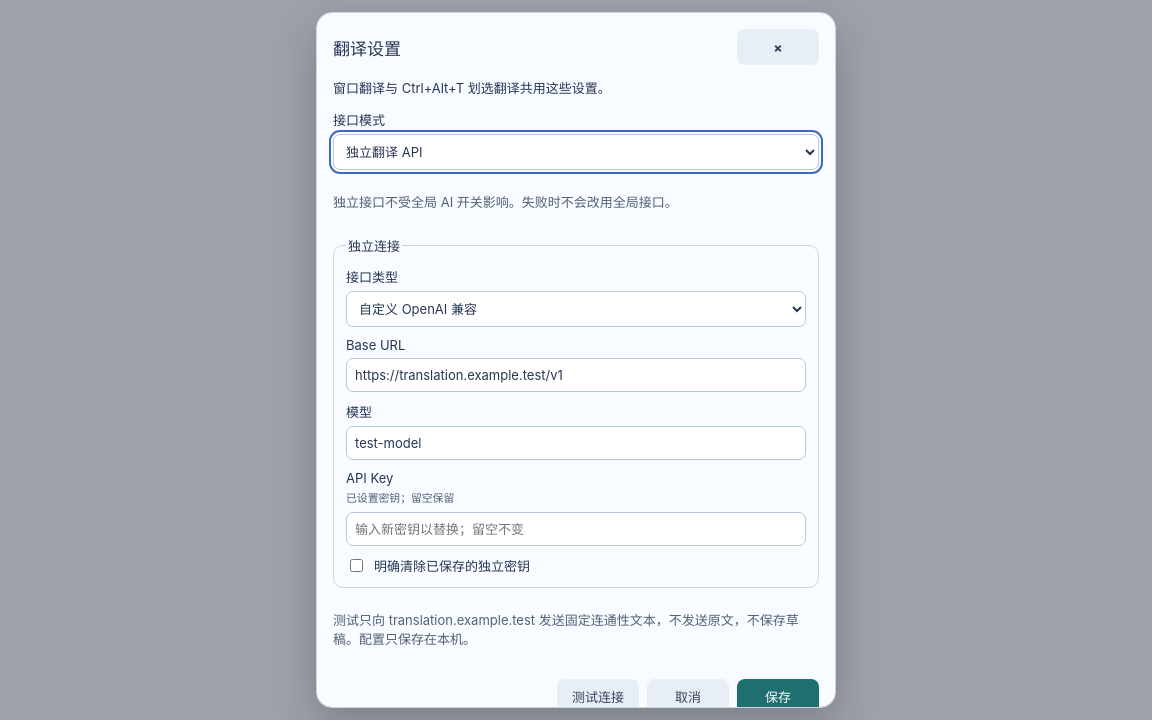
TranslatorApiSettings › tests the keep draft without saving or exposing the stored key
Check: the password field labelled "API Key 已设置密钥；留空保留" is empty, box x1=346 y1=512 x2=806 y2=546
What coordinates should you click on to do the following:
click the button "测试连接"
I would click on:
 (598, 697)
Its box is x1=557 y1=679 x2=639 y2=715.
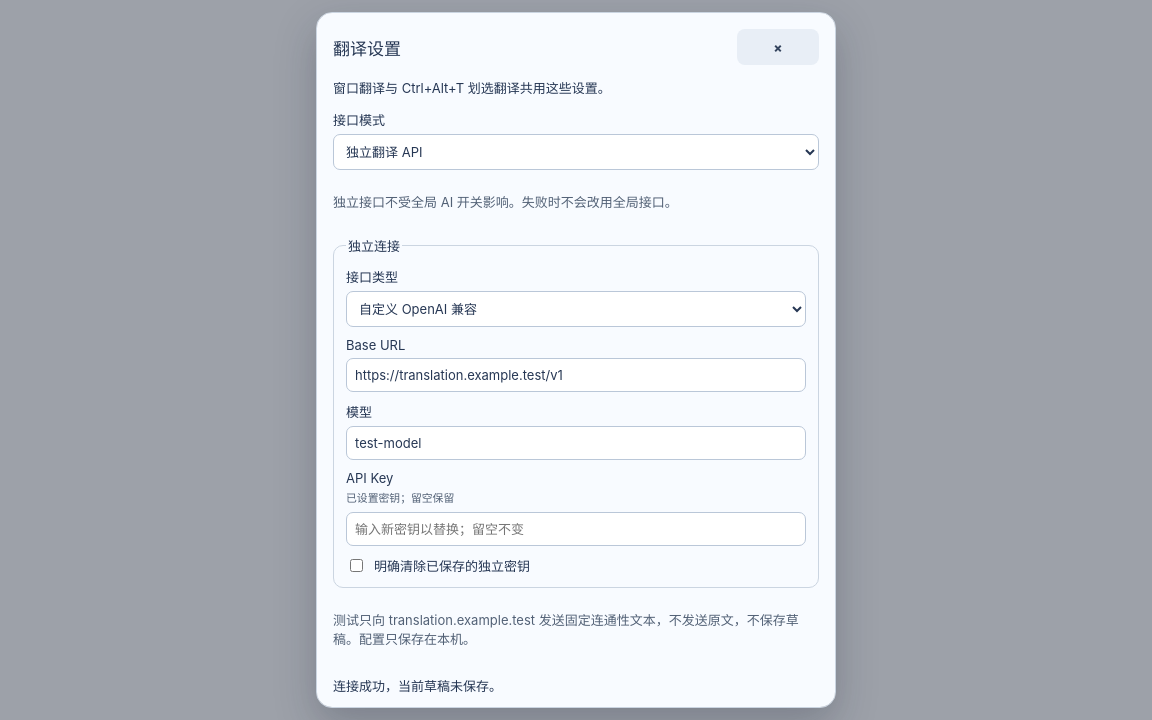
Check: the text "当前草稿未保存" is shown, box x1=333 y1=678 x2=502 y2=694
